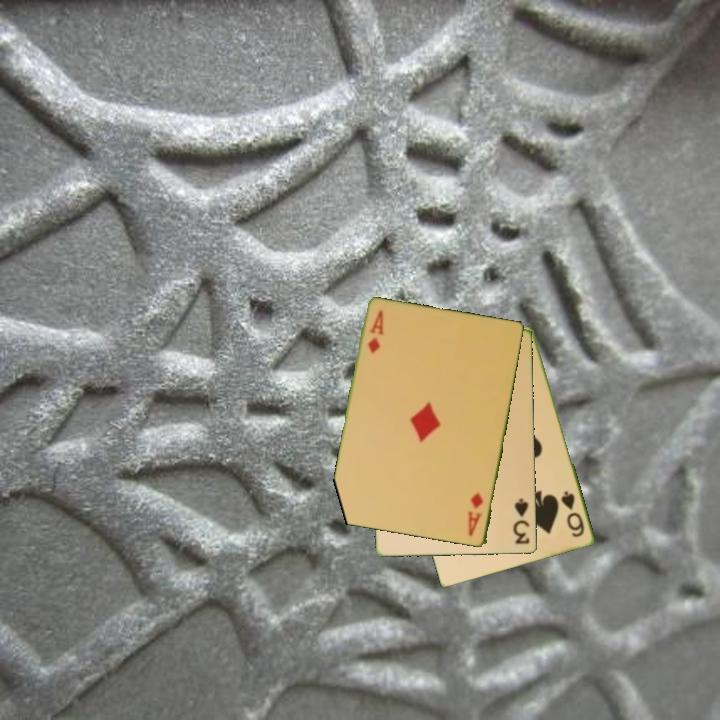3s: (510, 495, 533, 547)
6s: (558, 488, 588, 540)
Ad: (364, 307, 386, 357), (465, 489, 486, 539)
